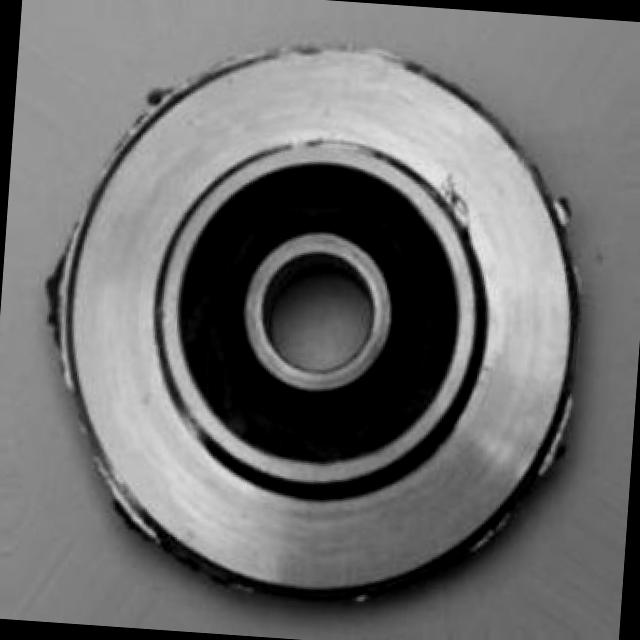Defect: (433, 173, 484, 246)
